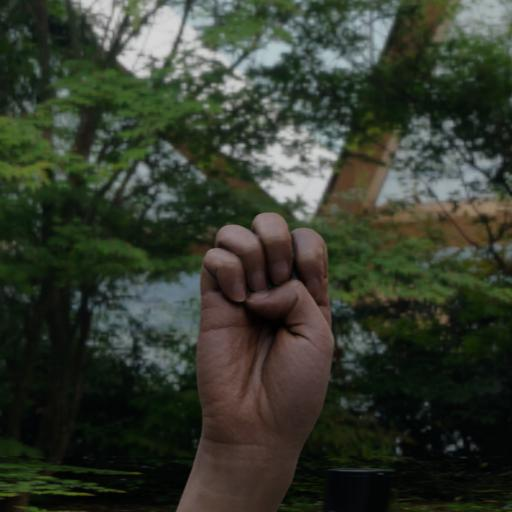E: (182, 208, 341, 477)
